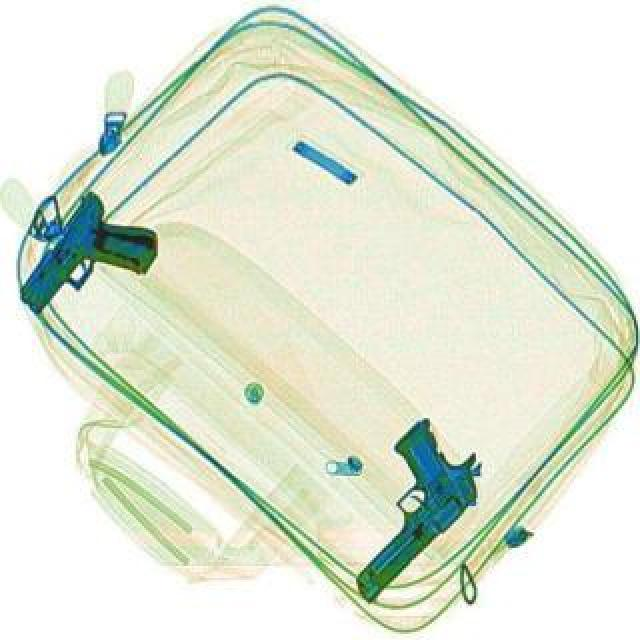gun: (292, 406, 504, 604), (4, 186, 170, 346)
